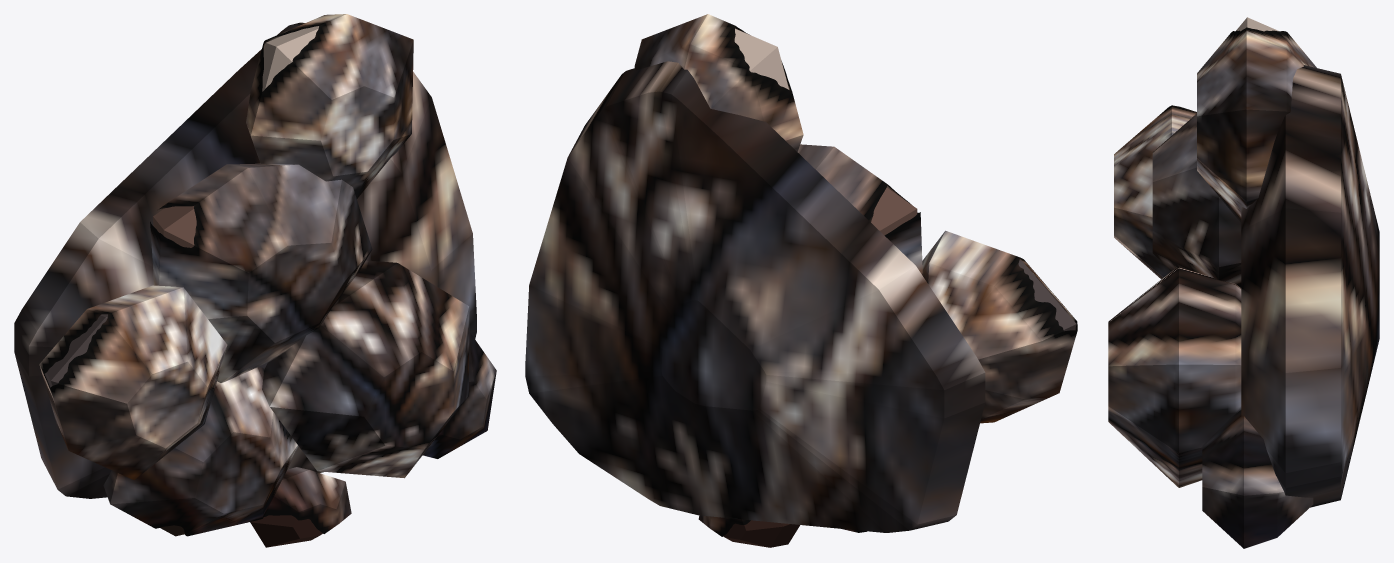
File: raw_silver.obj
3 renders of one model, left to right at view 1: azimuth 30°, elevation 25°; view 2: azimuth 150°, elevation 25°; view 3: azimuth 270°, elevation 25°, orthographic.
Visible parts, largest first — view 1: connected_ore_core, rock_3, rock_1, rock_2, rock_0, rock_4, rock_6, rock_5, rock_6_undercoat, rock_0_undercoat, rock_1_undercoat, rock_2_undercoat; view 2: connected_ore_core, rock_2, rock_0, rock_1, rock_0_undercoat, rock_6_undercoat, rock_1_undercoat, rock_2_undercoat; view 3: connected_ore_core, rock_3, rock_0, rock_1, rock_5, rock_2.
Part boxes in pixels (x1=…): connected_ore_core: x1=14, y1=22, x2=476, y2=498; rock_3: x1=262, y1=260, x2=469, y2=478; rock_1: x1=150, y1=163, x2=372, y2=382; rock_2: x1=39, y1=285, x2=227, y2=479; rock_0: x1=246, y1=14, x2=413, y2=198; rock_4: x1=103, y1=367, x2=298, y2=536; rock_6: x1=264, y1=467, x2=351, y2=533; rock_5: x1=423, y1=331, x2=496, y2=458; rock_6_undercoat: x1=250, y1=515, x2=322, y2=547; rock_0_undercoat: x1=262, y1=26, x2=318, y2=91; rock_1_undercoat: x1=153, y1=206, x2=196, y2=247; rock_2_undercoat: x1=45, y1=314, x2=107, y2=387; connected_ore_core: x1=525, y1=61, x2=985, y2=532; rock_2: x1=922, y1=230, x2=1077, y2=423; rock_0: x1=634, y1=14, x2=803, y2=151; rock_1: x1=797, y1=144, x2=922, y2=274; rock_0_undercoat: x1=734, y1=28, x2=788, y2=89; rock_6_undercoat: x1=723, y1=520, x2=799, y2=547; rock_1_undercoat: x1=871, y1=187, x2=917, y2=235; rock_2_undercoat: x1=1018, y1=260, x2=1076, y2=331; connected_ore_core: x1=1241, y1=65, x2=1379, y2=507; rock_3: x1=1108, y1=266, x2=1241, y2=487; rock_0: x1=1197, y1=27, x2=1316, y2=222; rock_1: x1=1152, y1=114, x2=1241, y2=287; rock_5: x1=1202, y1=406, x2=1313, y2=548; rock_2: x1=1114, y1=105, x2=1196, y2=279.
Bounding box in the file's own units: 104 × 106 × 50.67.
Materials: 2 (2 with a texture image).
